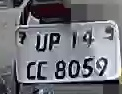0: (65, 58, 82, 79)
1: (69, 29, 81, 49)
4: (82, 28, 95, 51)
5: (80, 56, 97, 79)
8: (53, 58, 68, 80)
9: (94, 55, 111, 80)
C: (20, 57, 37, 80), (36, 61, 50, 81)
P: (48, 31, 61, 54)
U: (34, 33, 49, 54)
